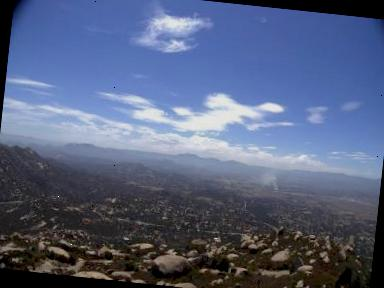smoke: (255, 166, 284, 193)
